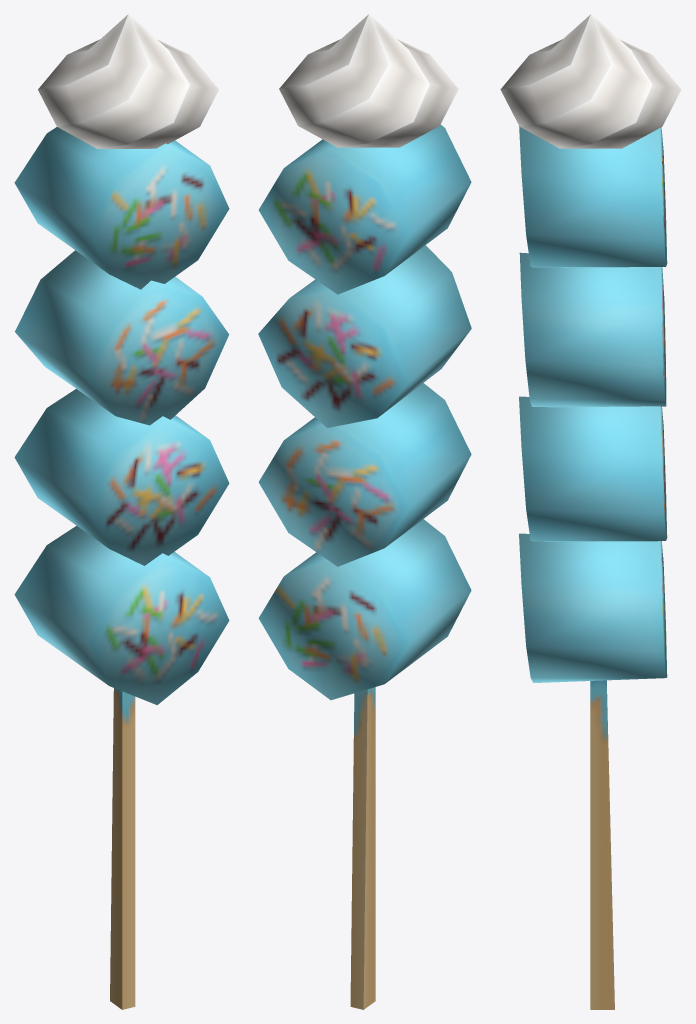
The model's file is jsf_ChocolateBanana_b03_c03.fbx.
3 renders of one model, left to right at view 1: azimuth 30°, elevation 25°; view 2: azimuth 150°, elevation 25°; view 3: azimuth 270°, elevation 25°, orthographic.
Visible parts, largest first — view 1: jsf_ChocolateBanana_b03_c03; view 2: jsf_ChocolateBanana_b03_c03; view 3: jsf_ChocolateBanana_b03_c03.
Part boxes in pixels (left/top/right/bottom): jsf_ChocolateBanana_b03_c03: left=14, top=14, right=229, bottom=1009; jsf_ChocolateBanana_b03_c03: left=258, top=14, right=471, bottom=1009; jsf_ChocolateBanana_b03_c03: left=500, top=14, right=681, bottom=1009.
Bounding box in the file's own units: 4.07 × 25.18 × 4.16.
